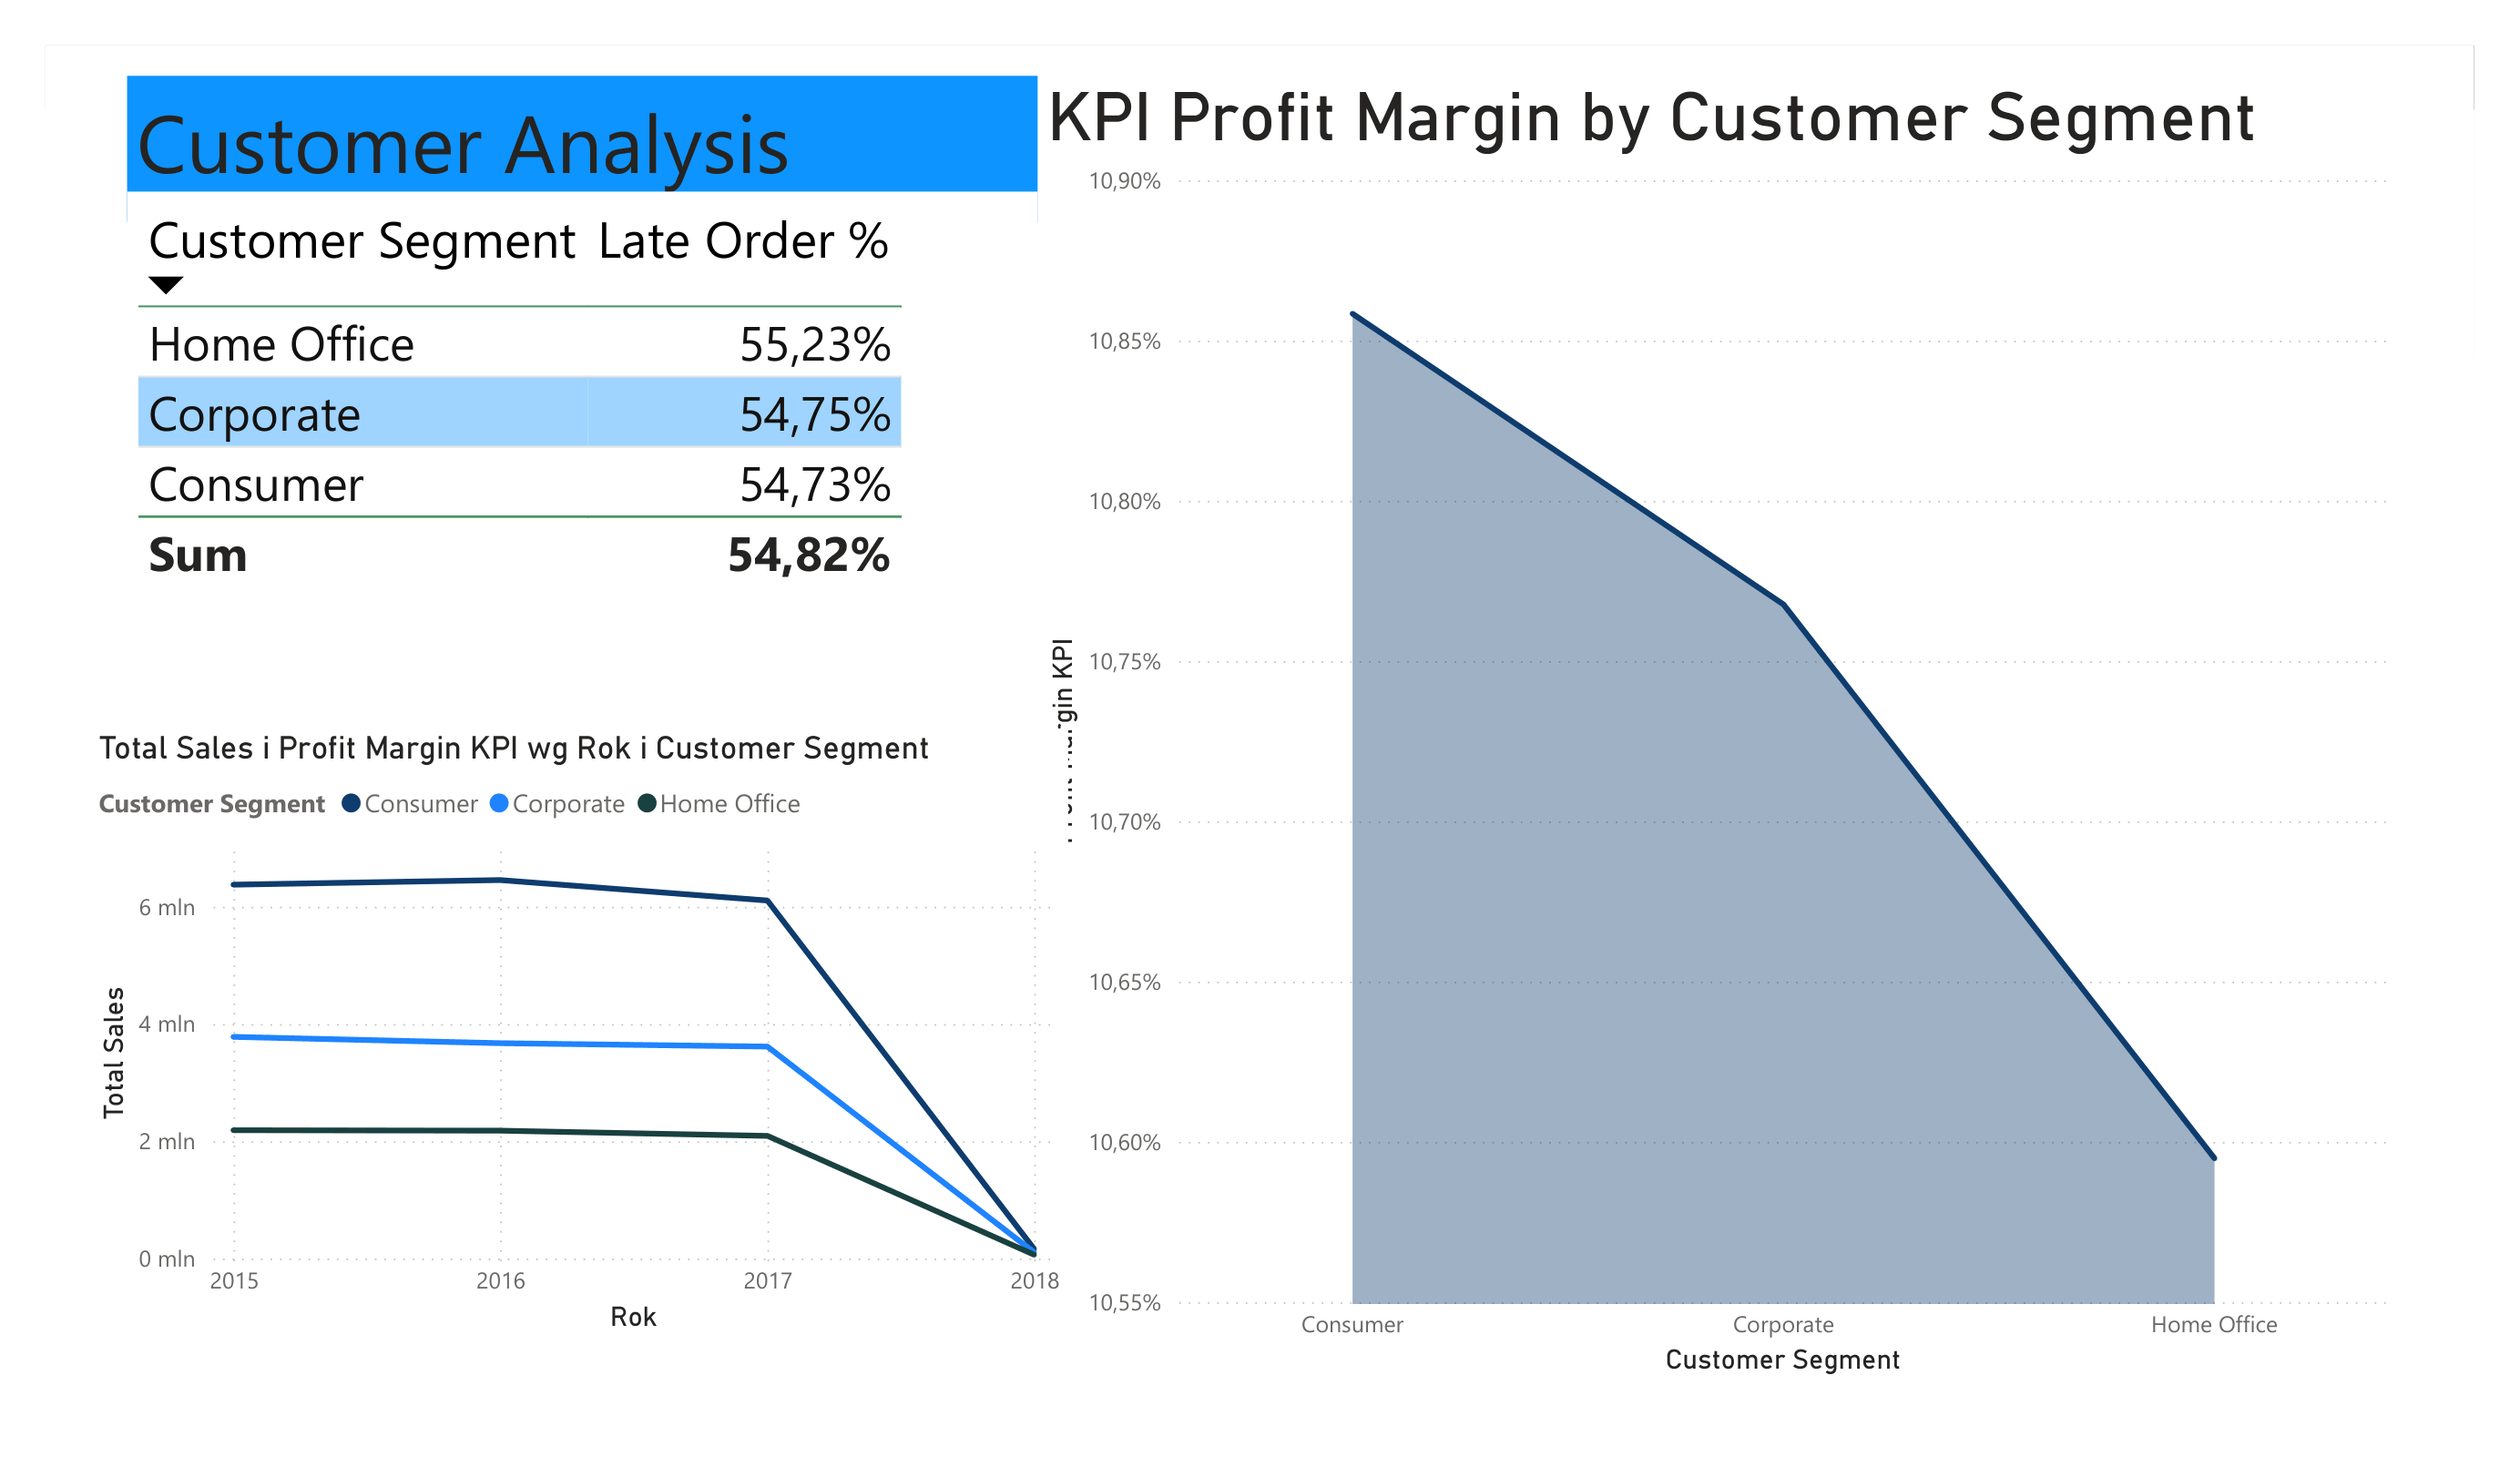

The dashboard page shown, as its layout file describes it:
{"tool":"powerbi","page":{"name":"Customer Analysis","canvas":[1280,720],"ordinal":1},"visuals":[{"type":"textbox","box":[43,15.9,480.3,77],"z":0},{"type":"stackedAreaChart","title":"KPI Profit Margin by Customer Segment","fields":{"Category":["TabConsumerSegment.Customer Segment"],"Y":["FactSales.Profit Margin KPI"]},"box":[523.3,15.9,715.9,688.7],"z":1000},{"type":"tableEx","fields":{"Values":["TabConsumerSegment.Customer Segment","FactSales.Late Order %"]},"box":[43,77,480.3,335.3],"z":2000},{"type":"lineChart","title":"Total Sales by Customer Segment by Year","fields":{"Category":["FactSales.order date (DateOrders).Odmiana.Hierarchia dat.Rok"],"Series":["FactSales.Customer Segment"],"Y":["FactSales.Total Sales"]},"box":[22.7,360.2,516.5,321.7],"z":3000}]}

Visuals, with their boxes on the page's 1280x720 design canvas (x1, y1, x2, y2). These are canvas units, not pixel positions in the 2520x1457 screenshot, which may show the page scaled, cropped or inside an application window:
textbox: detection(43, 16, 523, 93)
"KPI Profit Margin by Customer Segment" stackedAreaChart: detection(523, 16, 1239, 705)
tableEx - TabConsumerSegment.Customer Segment x FactSales.Late Order %: detection(43, 77, 523, 412)
"Total Sales by Customer Segment by Year" lineChart: detection(23, 360, 539, 682)
